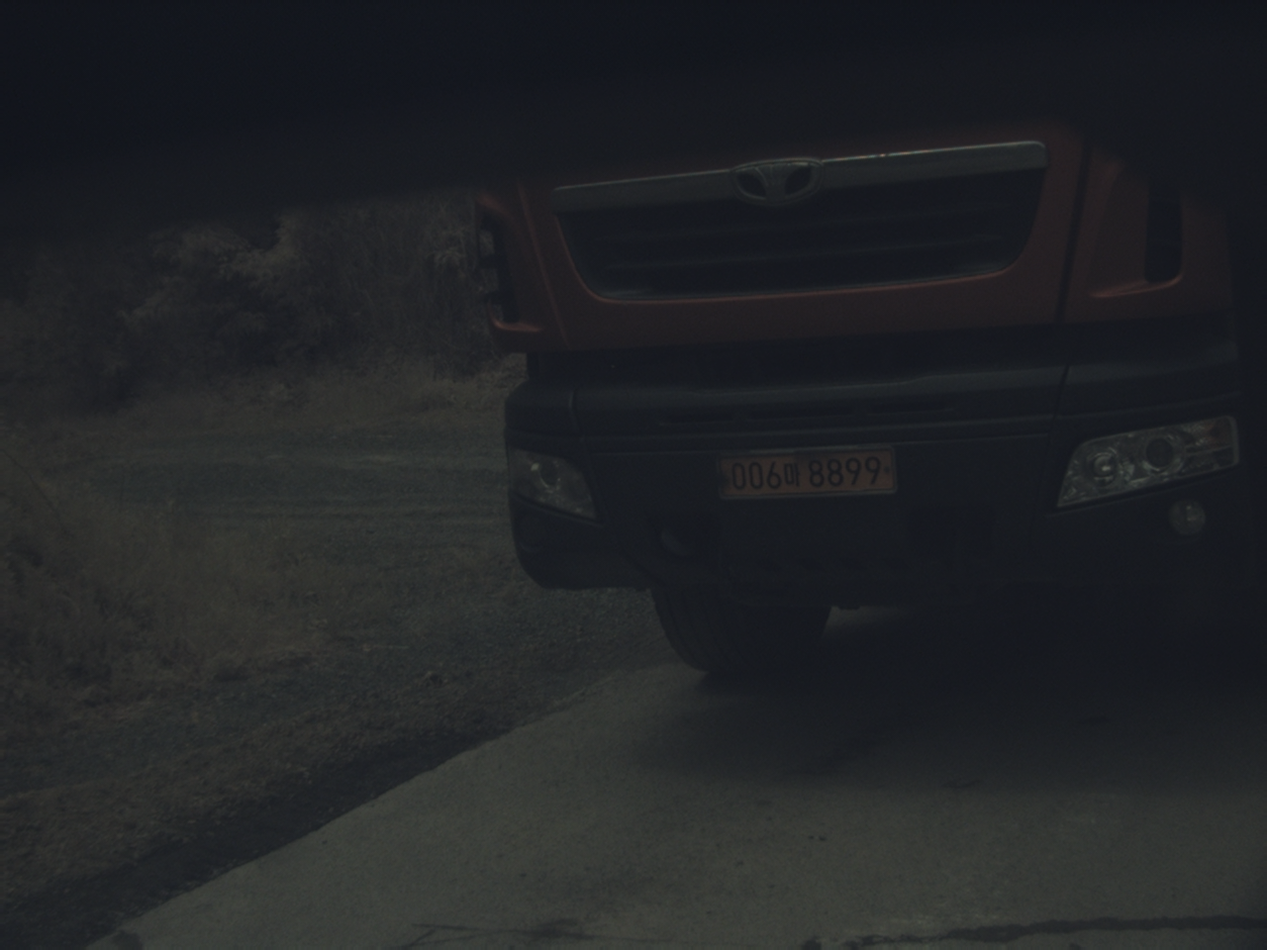license_plate: (720, 449, 893, 497)
truck: (480, 121, 1252, 672)
